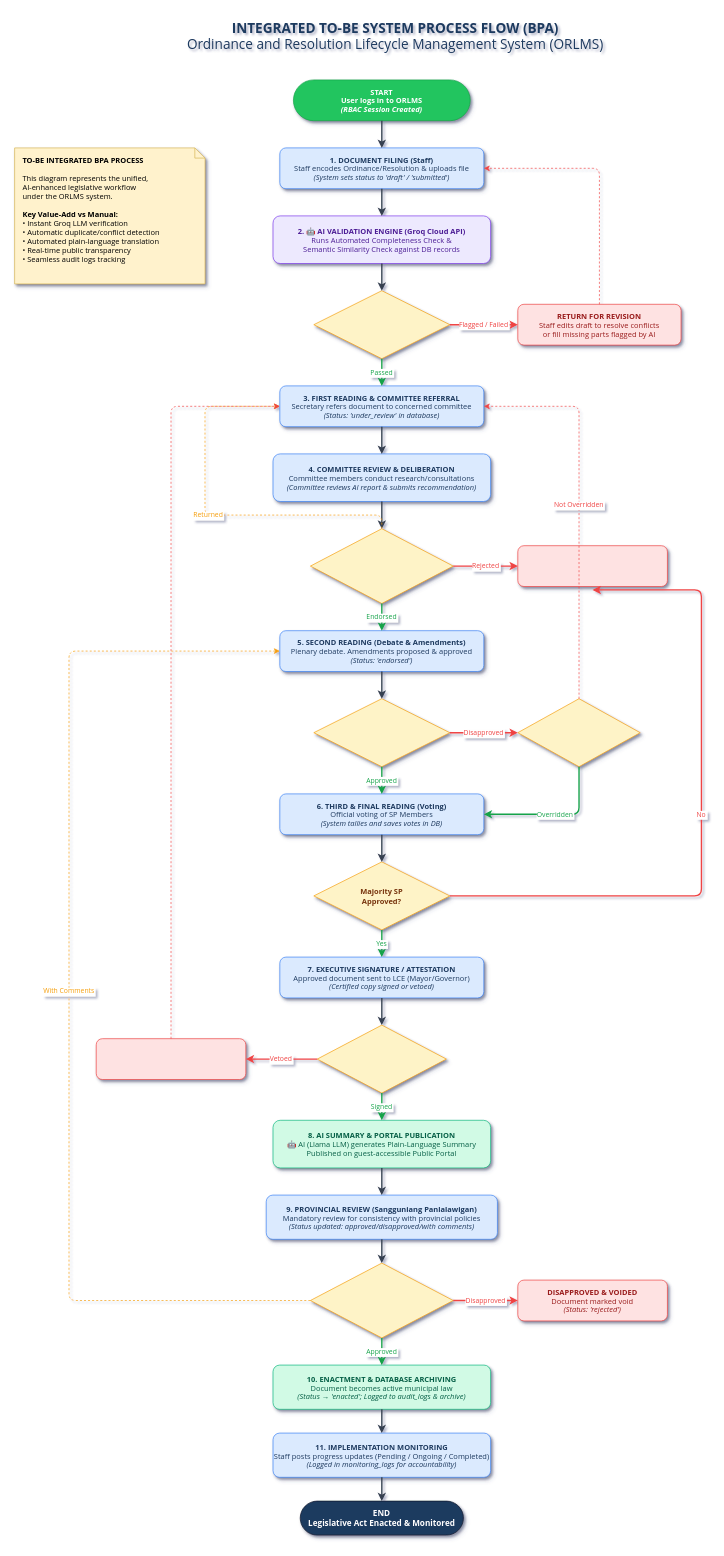
Some shapes in this 724 by 1556 pixel diagram are drawn without their labels. The centre of each missing label's shape, as x and y in pixels:
"AI Validation Passed?" belongs at [382,325].
"Approved on 2nd Reading?" belongs at [382,733].
"Committee Recommendation?" belongs at [382,566].
"LCE Signed?" belongs at [382,1060].
"Override 2/3 Vote?" belongs at [579,733].
"Provincial Review Decision?" belongs at [382,1301].
"REJECTED & ARCHIVED Document ends process (Logged to review_logs & archive)" belongs at [593,566].
"VETOED BY LCE Sends Veto Message back to SP Council for review" belongs at [171,1059].
